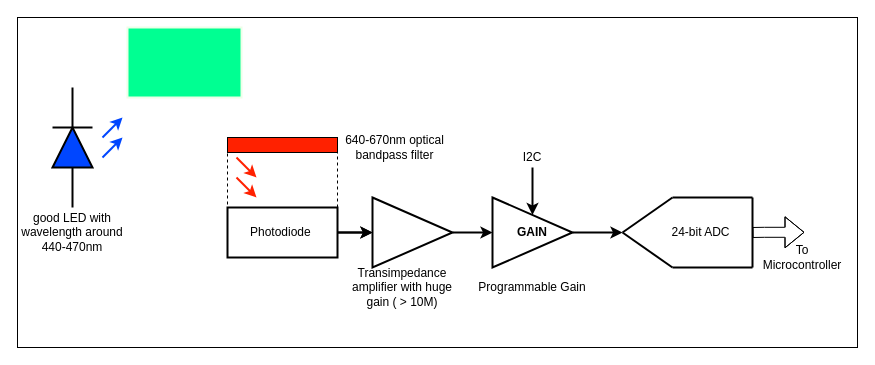
This 875x365 diagram has some shape labels left out. Each missing label, with the box of its shape:
Chlorophyll solution: (126, 26, 242, 98)
I-V: (371, 196, 453, 268)
